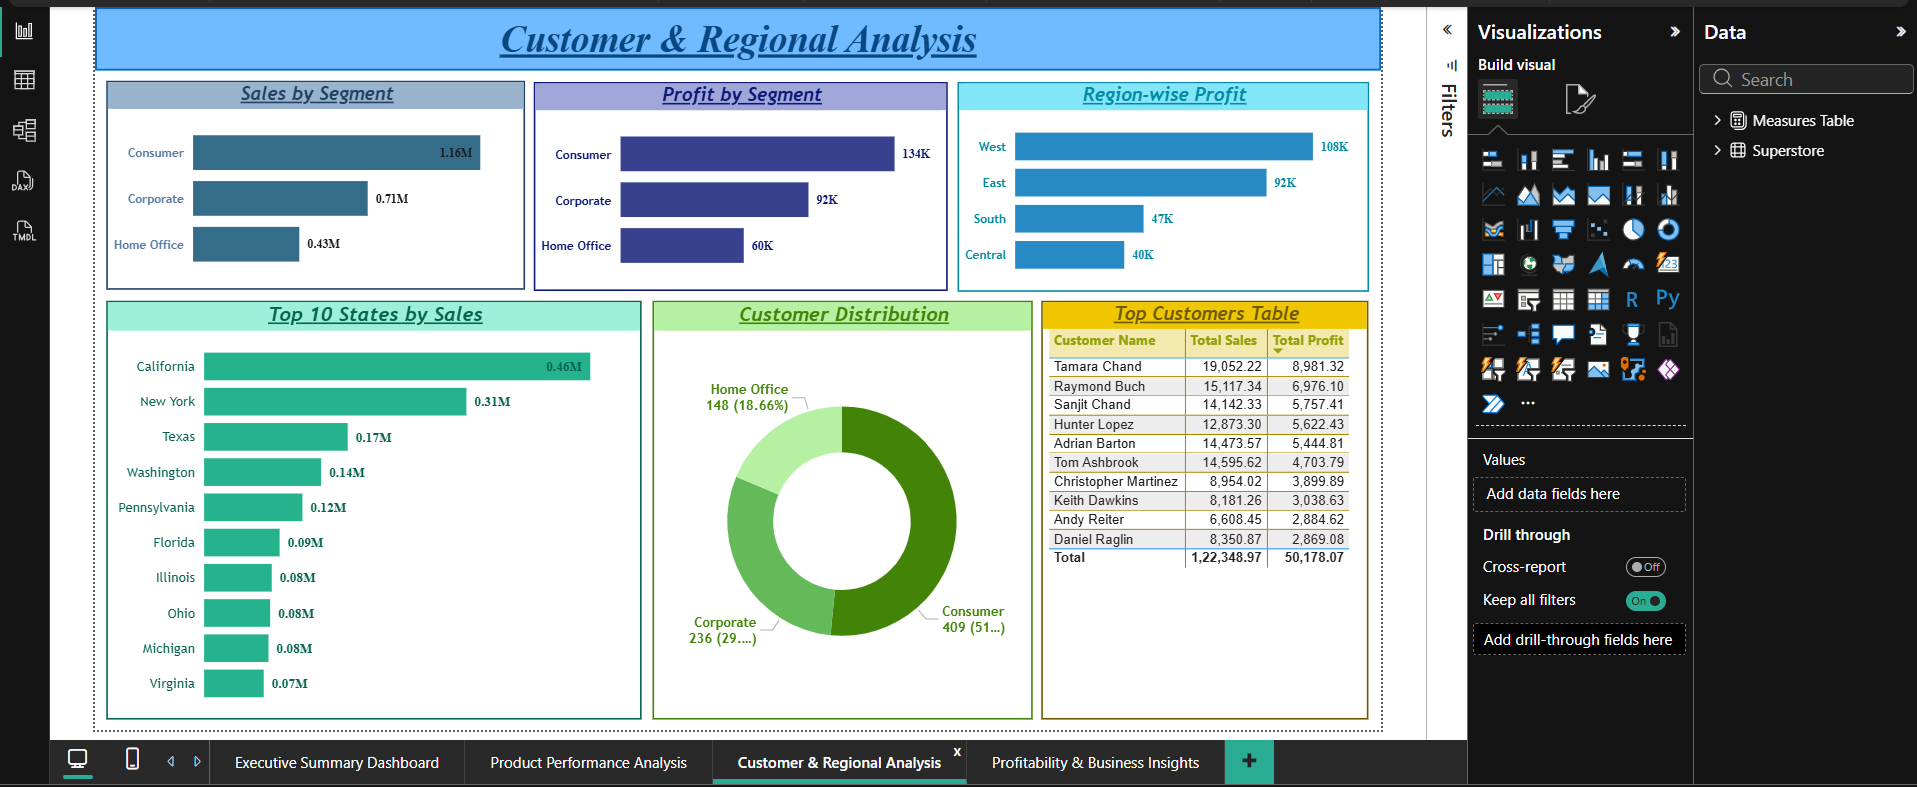

Layout of this report page (visuals, bound fields, positions):
{"tool":"powerbi","page":{"name":"Customer & Regional Analysis","canvas":[1280,720],"ordinal":2},"visuals":[{"type":"shape","box":[0,0,1280,63.4],"z":0},{"type":"clusteredBarChart","title":"Sales by Segment","fields":{"Category":["Superstore.Segment"],"Y":["Sum(Superstore.Sales)"]},"box":[11.2,73.4,416.7,207.7],"z":1000},{"type":"clusteredBarChart","title":"Profit by Segment","fields":{"Category":["Superstore.Segment"],"Y":["Sum(Superstore.Profit)"]},"box":[436.6,74.6,411.8,207.7],"z":2000},{"type":"clusteredBarChart","title":"Region-wise Profit","fields":{"Category":["Superstore.Region"],"Y":["Sum(Superstore.Profit)"]},"box":[858.3,74.6,409.3,209],"z":3000},{"type":"clusteredBarChart","title":"Top 10 States by Sales","fields":{"Category":["Superstore.State"],"Y":["Sum(Superstore.Sales)"]},"box":[11.2,292.3,532.4,416.7],"z":4000},{"type":"donutChart","title":"Customer Distribution","fields":{"Category":["Superstore.Segment"],"Y":["Count(Superstore.Customer ID)"]},"box":[554.8,292.3,378.2,416.7],"z":5000},{"type":"tableEx","title":"Top Customers Table","fields":{"Values":["Superstore.Customer Name","Sum(Superstore.Sales)","Sum(Superstore.Profit)"]},"box":[941.7,292.3,325.9,416.7],"z":6000}]}

Visuals, with their boxes on the page's 1280x720 design canvas (x1, y1, x2, y2). These are canvas units, not pixel positions in the 1917x787 screenshot, which may show the page scaled, cropped or inside an application window:
shape: l=0, t=0, r=1280, b=63
"Sales by Segment" clusteredBarChart: l=11, t=73, r=428, b=281
"Profit by Segment" clusteredBarChart: l=437, t=75, r=848, b=282
"Region-wise Profit" clusteredBarChart: l=858, t=75, r=1268, b=284
"Top 10 States by Sales" clusteredBarChart: l=11, t=292, r=544, b=709
"Customer Distribution" donutChart: l=555, t=292, r=933, b=709
"Top Customers Table" tableEx: l=942, t=292, r=1268, b=709
